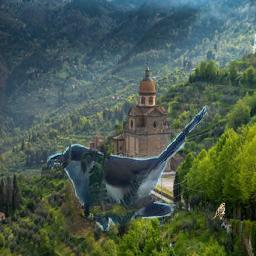Cuckoo: (47, 105, 211, 231)
Sparrow: (211, 202, 225, 220)
